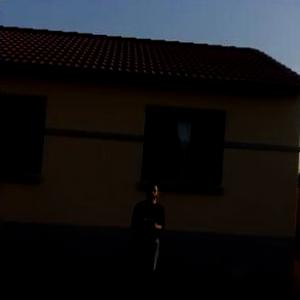follow: (126, 176, 168, 299)
